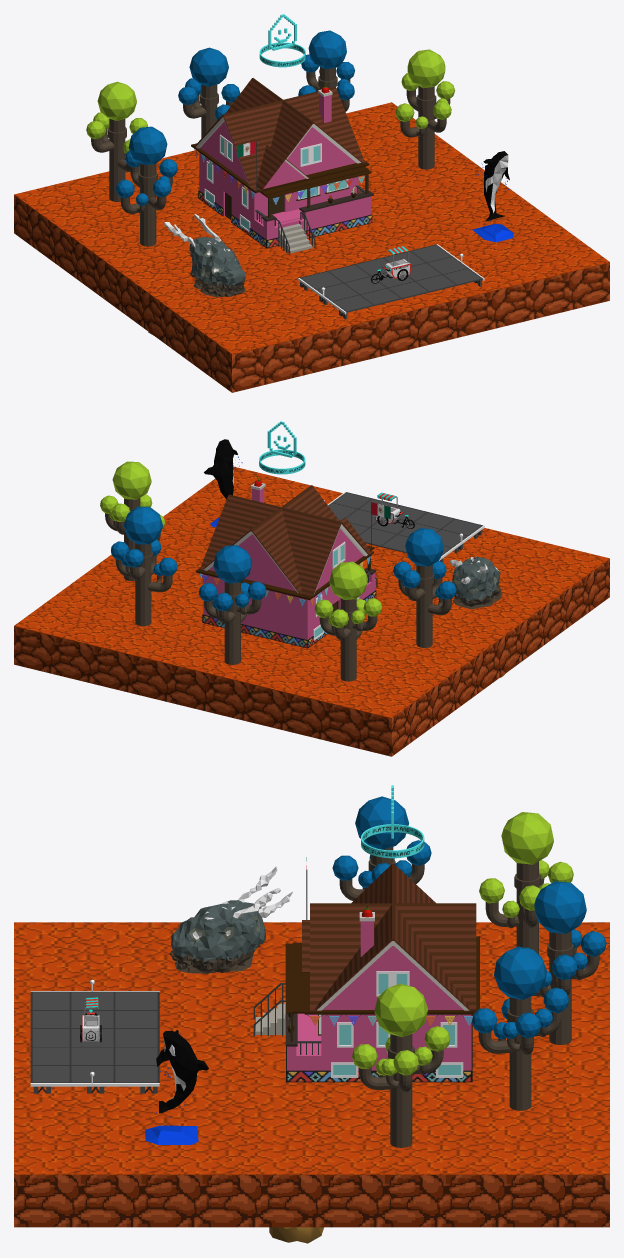
3 renders of one model, top to bottom at view 1: azimuth 30°, elevation 25°; view 2: azimuth 150°, elevation 25°; view 3: azimuth 270°, elevation 25°, orthographic. The views are drawn at different scales.
Parts seen in each view (by area): view 1: Cube.001, Cube.1005, OBJRANDOM_METEORITE, ANIMAL_ORCA, TYPE_PREMIUM, VEHICLES_SNOWBAL_BIKE; view 2: Cube.001, Cube.1005, OBJRANDOM_METEORITE, ANIMAL_ORCA, TYPE_PREMIUM, VEHICLES_SNOWBAL_BIKE; view 3: Cube.001, Cube.1005, OBJRANDOM_METEORITE, ANIMAL_ORCA, TYPE_PREMIUM, VEHICLES_SNOWBAL_BIKE, UNDERGROUND_T_REX_BONES.
Boxes of the visible parts, left/top/right/bottom form: Cube.001: left=14, top=30, right=609, bottom=392; Cube.1005: left=191, top=78, right=373, bottom=254; OBJRANDOM_METEORITE: left=164, top=214, right=245, bottom=297; ANIMAL_ORCA: left=472, top=151, right=513, bottom=242; TYPE_PREMIUM: left=259, top=14, right=305, bottom=67; VEHICLES_SNOWBAL_BIKE: left=370, top=246, right=411, bottom=283; Cube.001: left=14, top=461, right=609, bottom=756; Cube.1005: left=195, top=476, right=390, bottom=648; OBJRANDOM_METEORITE: left=449, top=556, right=502, bottom=609; ANIMAL_ORCA: left=204, top=439, right=242, bottom=527; TYPE_PREMIUM: left=259, top=421, right=305, bottom=474; VEHICLES_SNOWBAL_BIKE: left=375, top=492, right=414, bottom=528; Cube.001: left=14, top=796, right=609, bottom=1227; Cube.1005: left=253, top=857, right=479, bottom=1082; OBJRANDOM_METEORITE: left=169, top=866, right=292, bottom=973; ANIMAL_ORCA: left=145, top=1030, right=208, bottom=1144; TYPE_PREMIUM: left=361, top=785, right=424, bottom=858; VEHICLES_SNOWBAL_BIKE: left=79, top=997, right=102, bottom=1042; UNDERGROUND_T_REX_BONES: left=269, top=1227, right=323, bottom=1243.
Size of the model in its own units: 4000 by 2523 by 4000.
70 materials, 7 textured.
